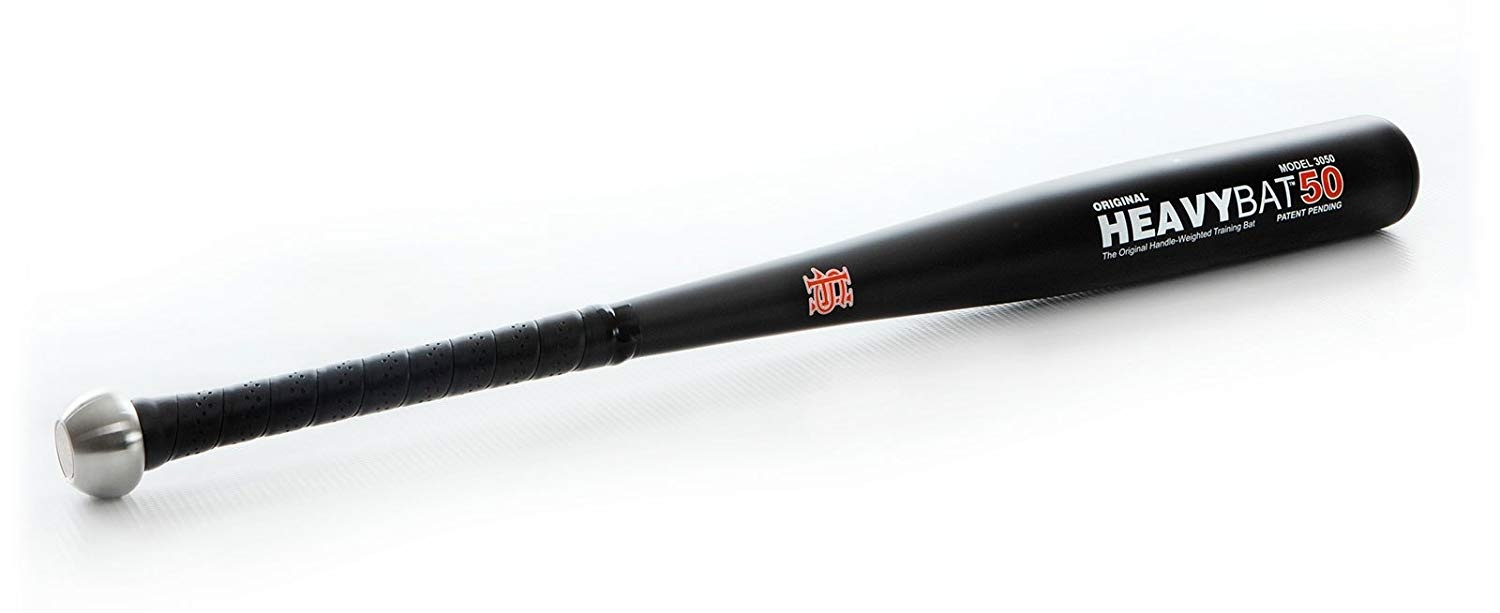bita: (46, 117, 1414, 488)
